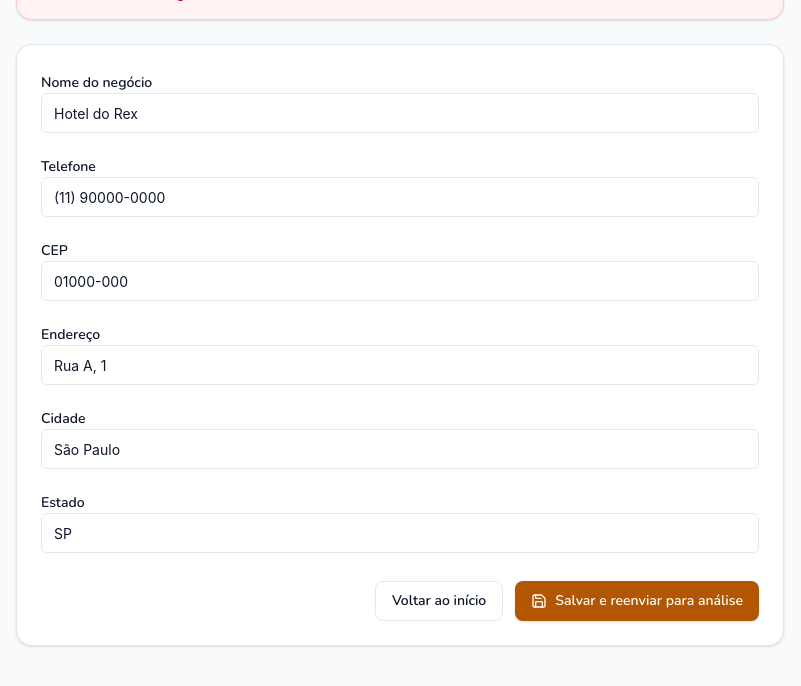
Test: não salva nem reenvia com state inválido
The image size is (801, 686).
(page scrolled)
Type "ZZ" into the field with id "state" at (400, 533), box [41,513,759,553]
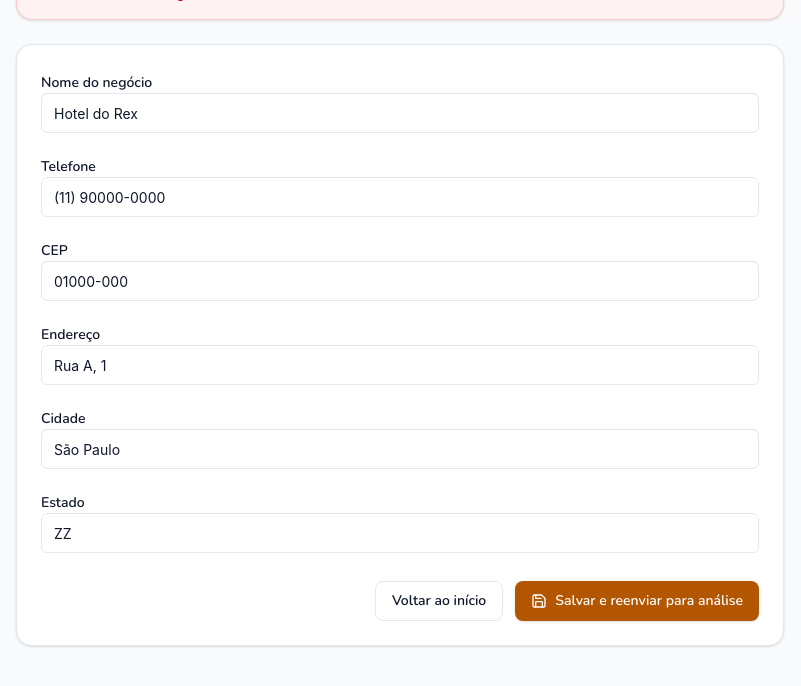
Click the button "Salvar e reenviar para análise" at (637, 601), box [515,581,759,621]
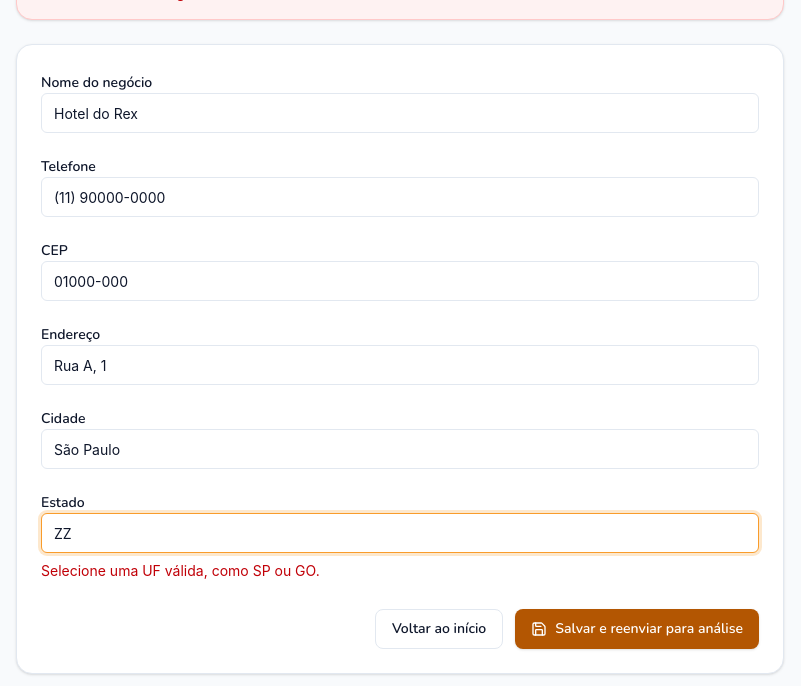
Expected: the text "Selecione uma UF válida, como SP ou GO." is shown, [41,562,320,579]
